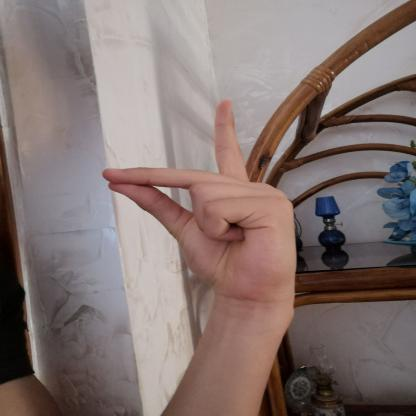TAA: (87, 91, 309, 319)
